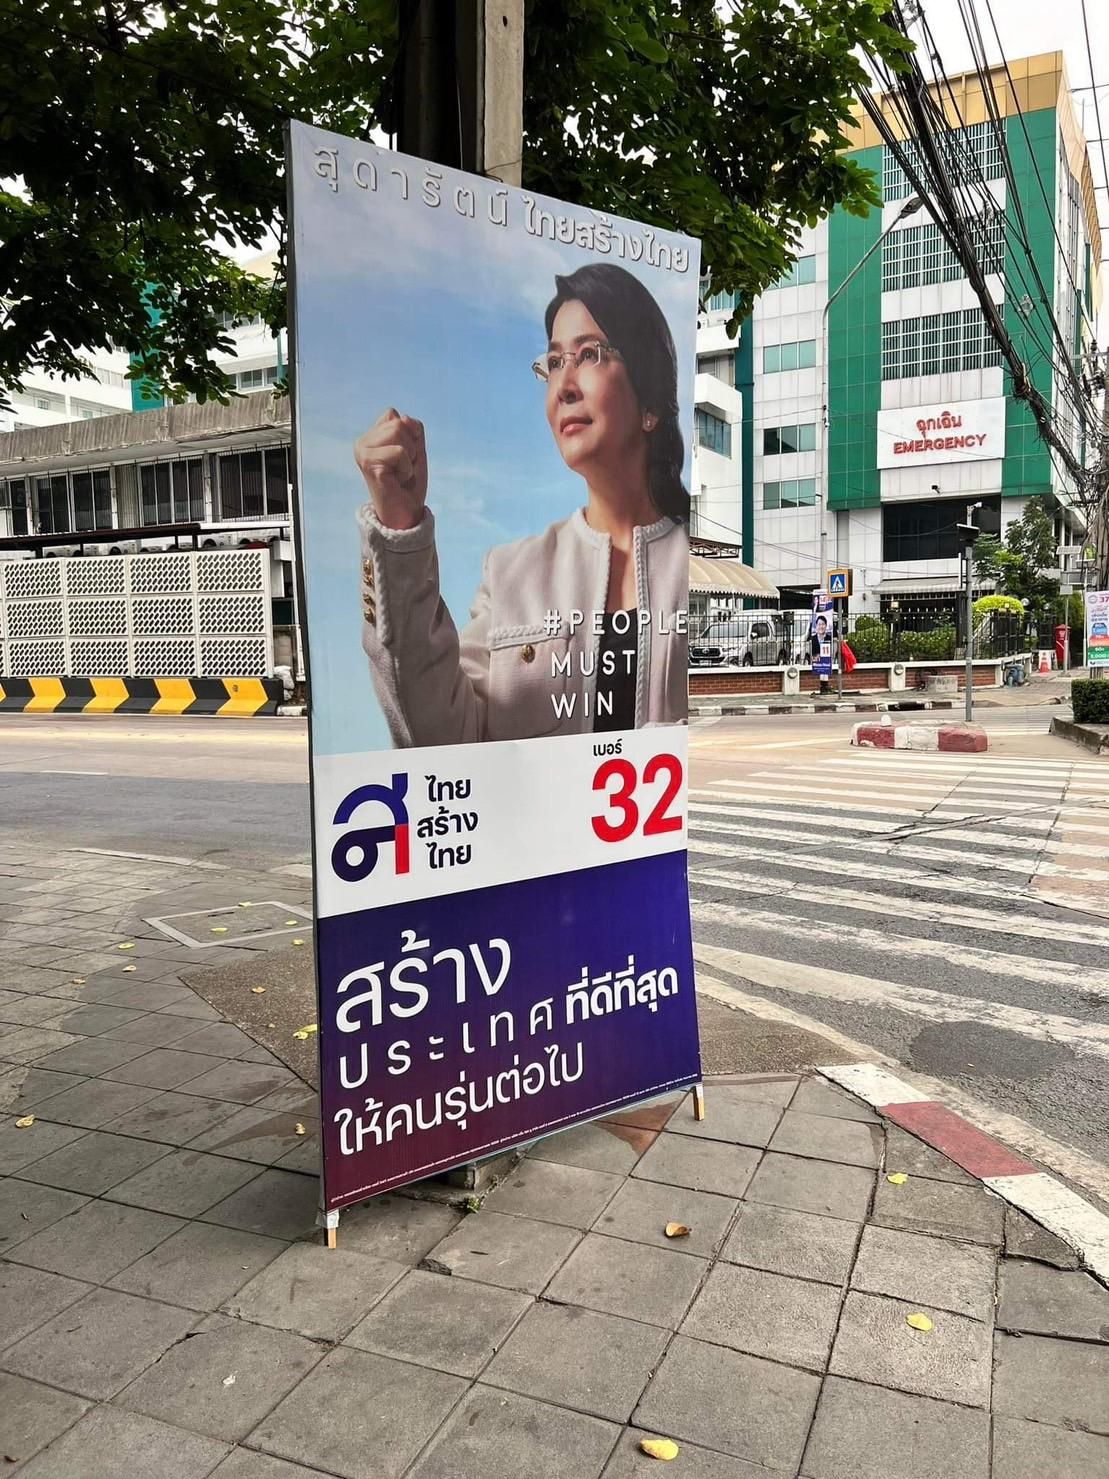Banner: (288, 111, 712, 1158)
